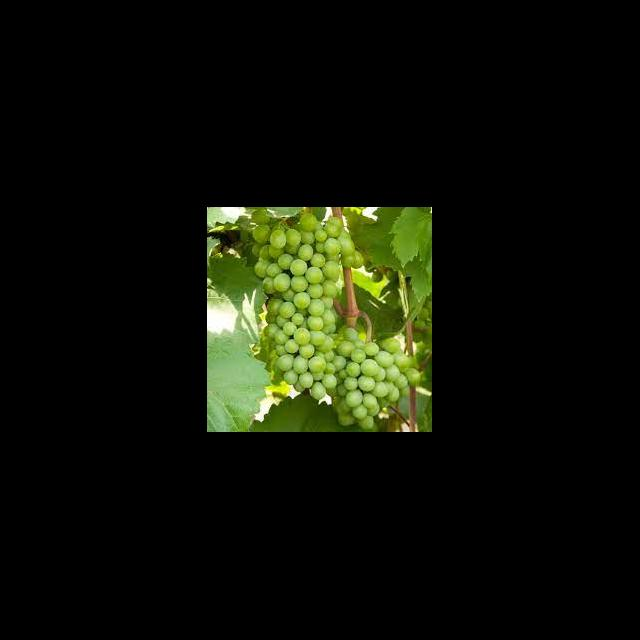grape: (252, 213, 344, 407), (328, 336, 411, 421)
